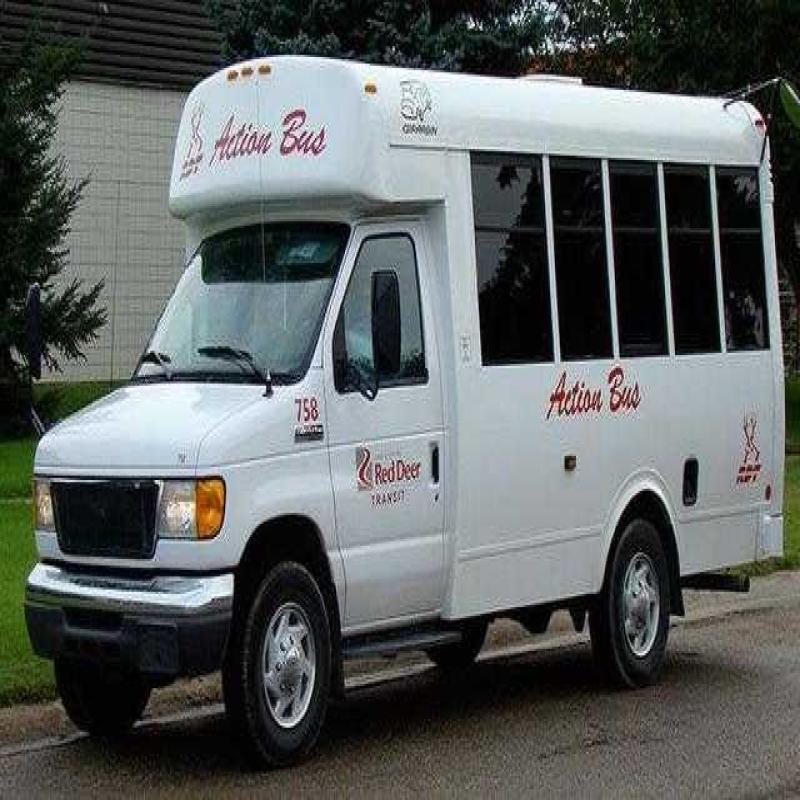bus: (24, 29, 793, 675)
